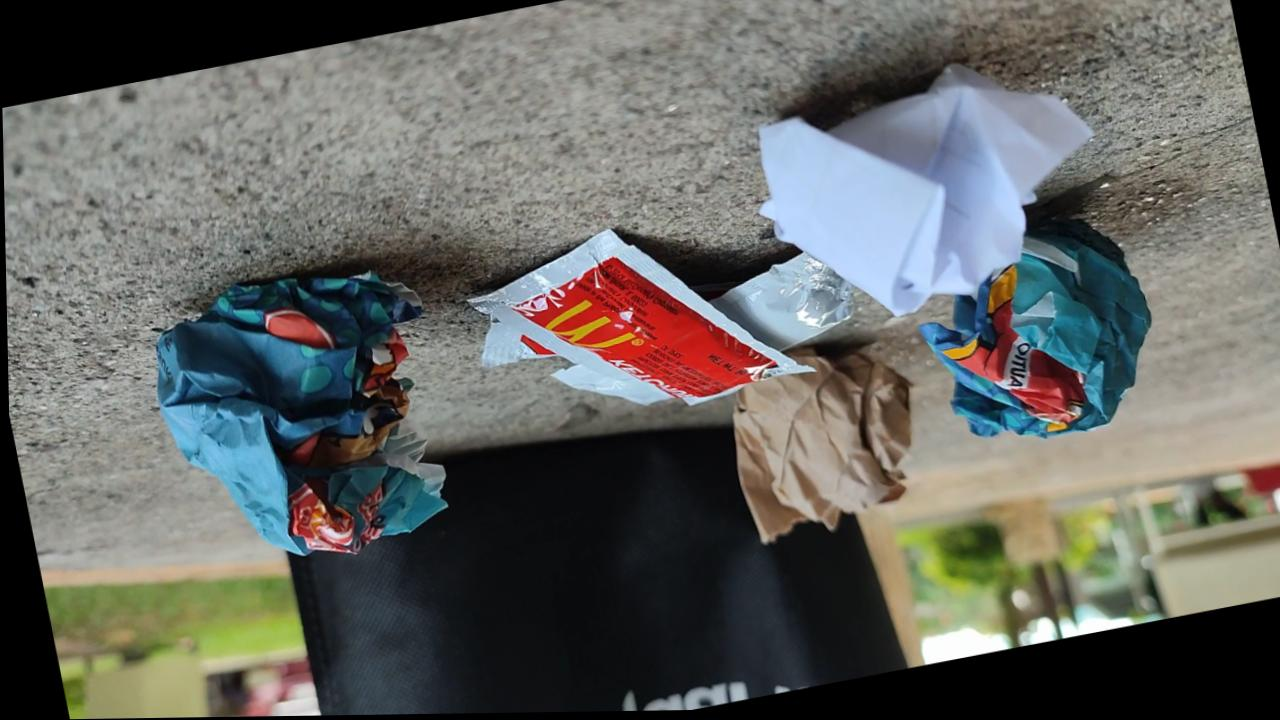paper: (719, 66, 1090, 347), (157, 273, 444, 554), (920, 219, 1150, 436), (734, 350, 910, 543)
